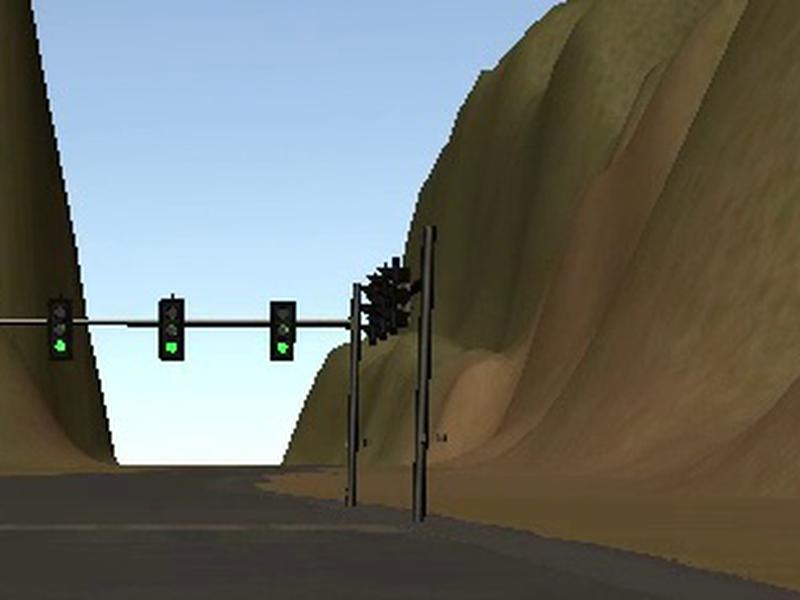Green: (269, 301, 296, 361), (48, 298, 73, 362), (159, 299, 184, 361)
